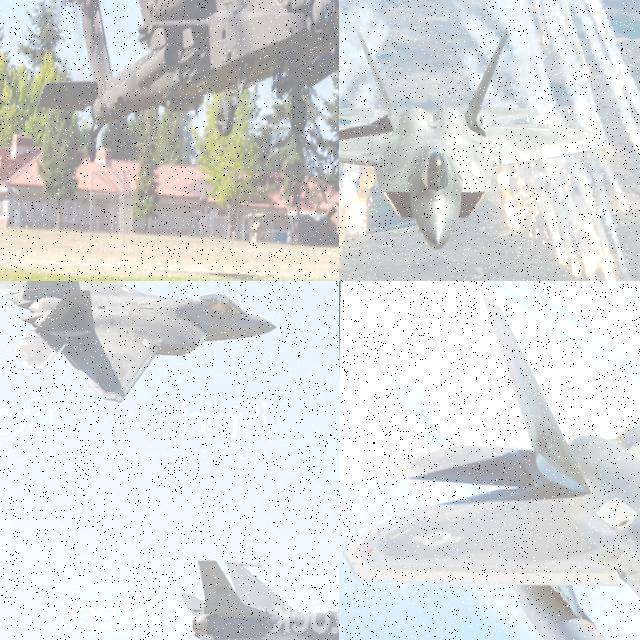Apache: (0, 0, 339, 156)
F22: (339, 281, 640, 640), (339, 28, 609, 248), (0, 281, 279, 419), (176, 558, 339, 640)
